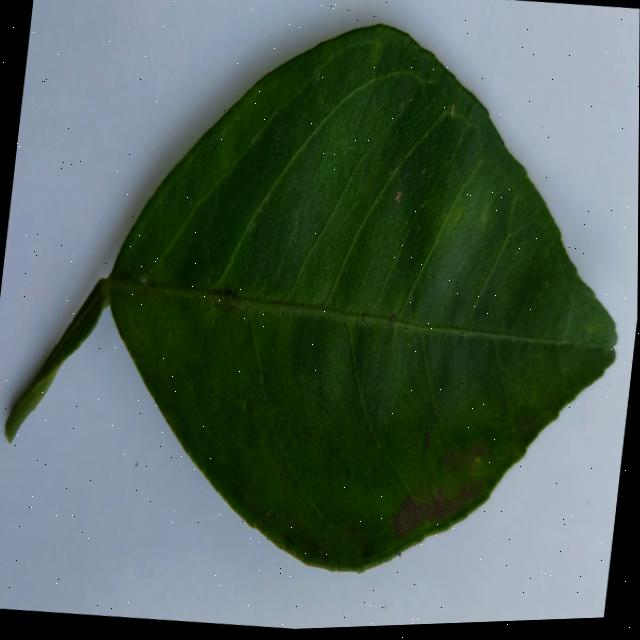greening: (4, 27, 616, 571)
